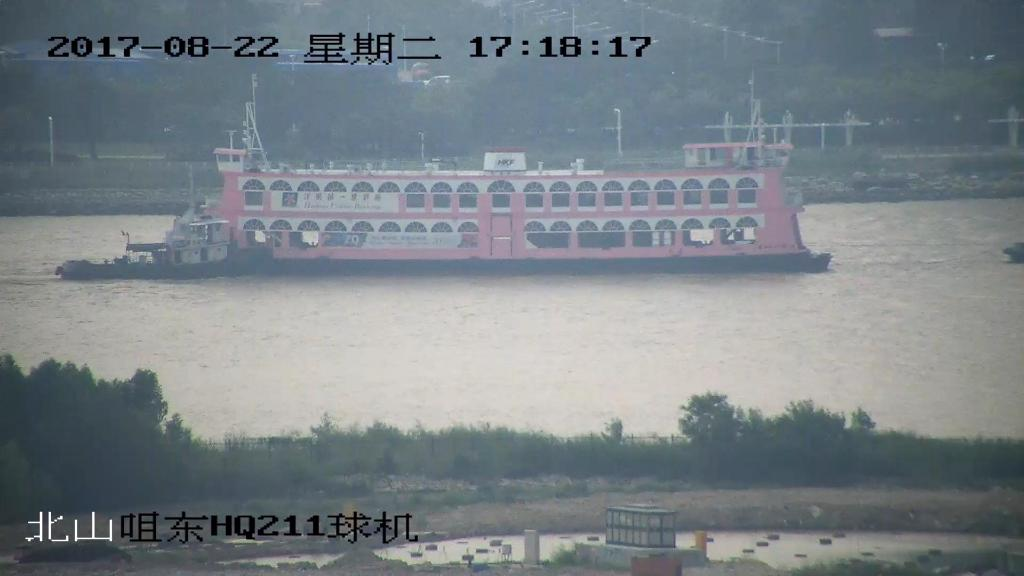PassengerShip: (198, 101, 834, 285)
